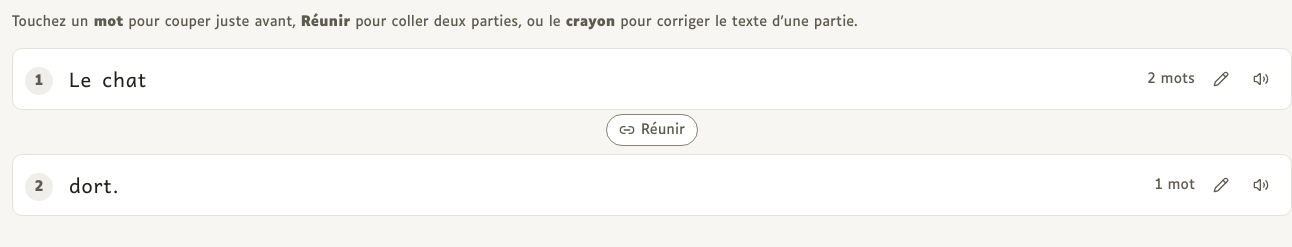
Scenario: SegmentEditor › discards the edit on Escape
Step 1. Click the button named "Modifier la partie 1" → (1221, 79), box [1203,61,1239,97]
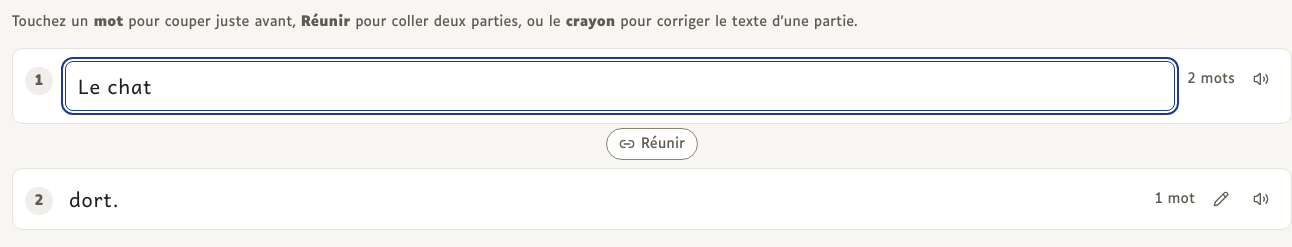
Step 2. Type " noir" into the field named "Texte de la partie 1" → (620, 86), box [65,61,1176,111]
Then press Escape
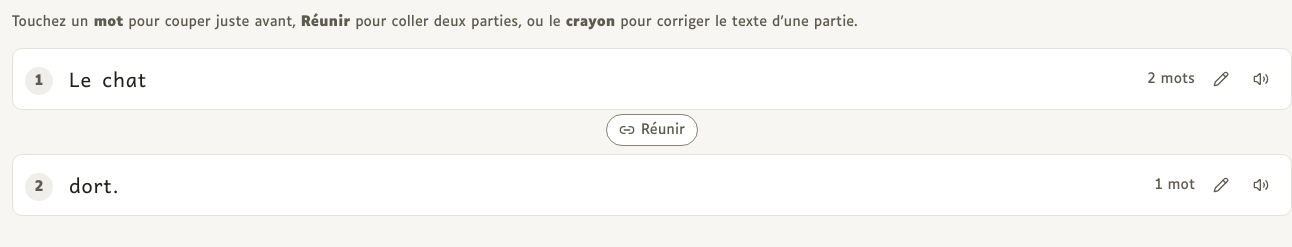
Check: the field is gone
